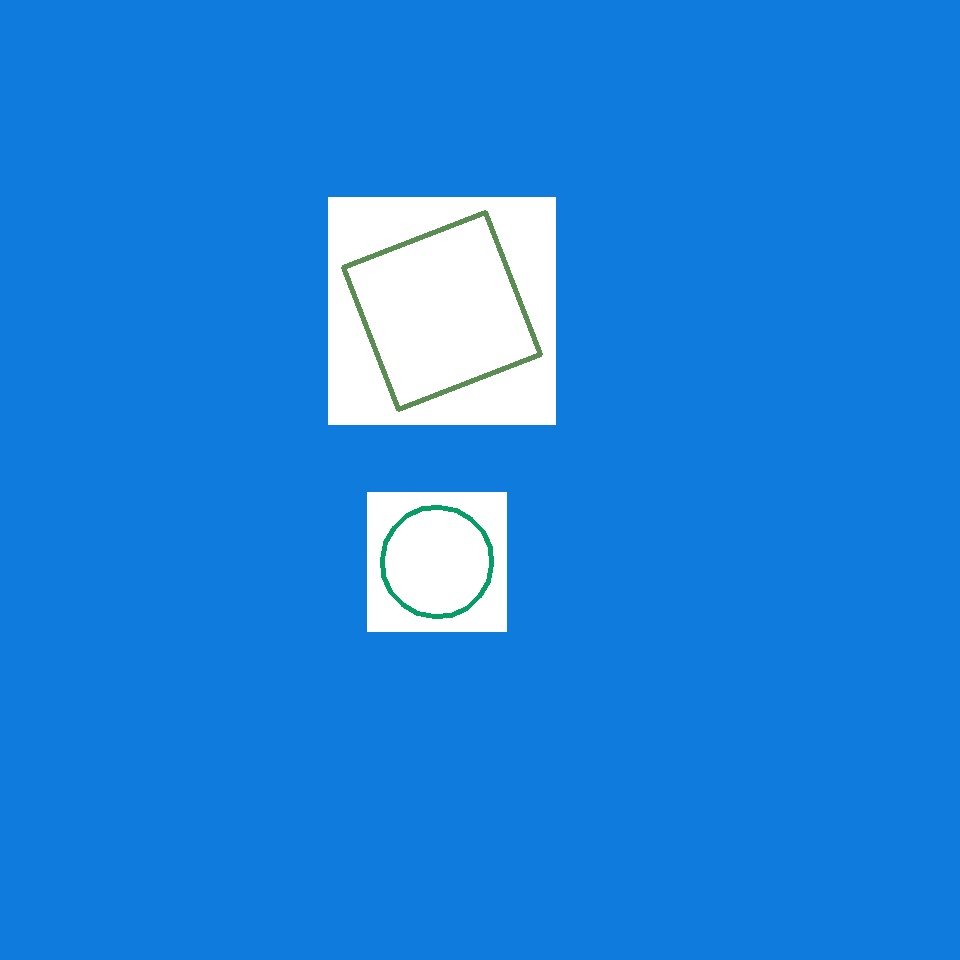square: (568, 119, 822, 374), (344, 213, 540, 410)
triangle: (544, 236, 682, 372), (382, 508, 492, 616)
